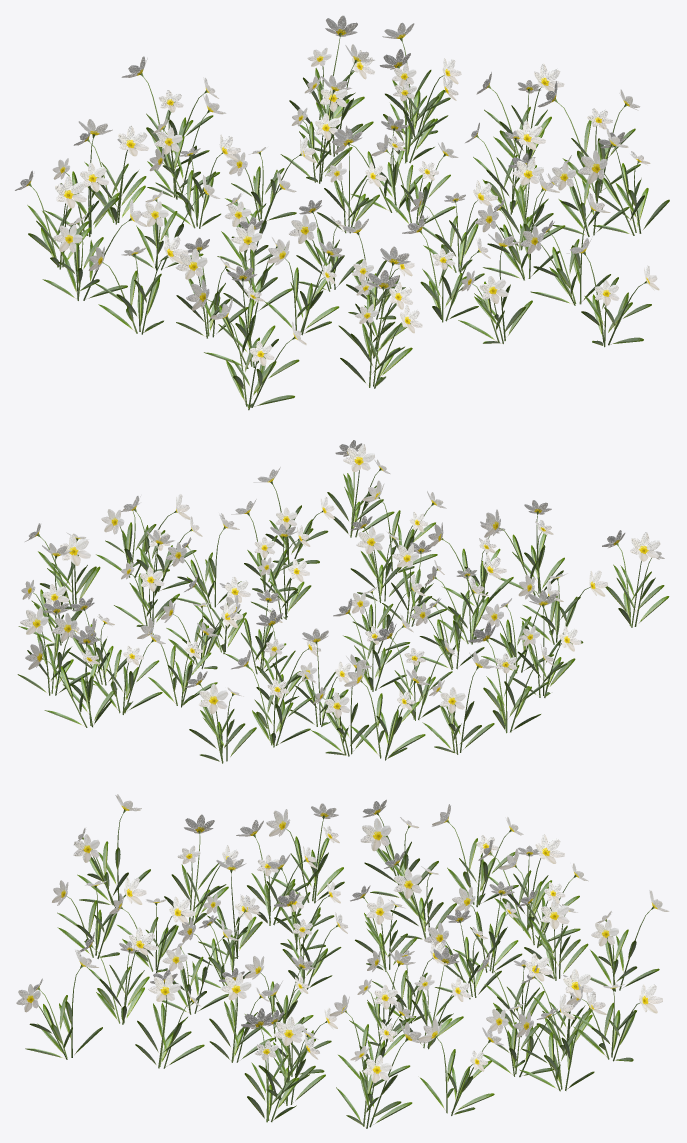
Rendered from flowers.fbx.
3 views of the same model, one above another, from view 1: azimuth 30°, elevation 25°; view 2: azimuth 150°, elevation 25°; view 3: azimuth 270°, elevation 25° (orthographic). The views are drawn at different scales.
Visible parts, largest first — view 1: Tree_1, Tree_0, Tree_2; view 2: Tree_1, Tree_0, Tree_2; view 3: Tree_1, Tree_0, Tree_2.
Boxes of the visible parts, x1=… form: Tree_1: x1=27, y1=68, x2=669, y2=408; Tree_0: x1=15, y1=15, x2=659, y2=365; Tree_2: x1=28, y1=33, x2=647, y2=410; Tree_1: x1=17, y1=473, x2=669, y2=762; Tree_0: x1=20, y1=440, x2=664, y2=718; Tree_2: x1=33, y1=468, x2=651, y2=763; Tree_1: x1=25, y1=836, x2=659, y2=1127; Tree_0: x1=16, y1=794, x2=669, y2=1082; Tree_2: x1=37, y1=809, x2=654, y2=1128.
Size of the model in its own units: 332 by 60.42 by 342.
Materials: 3 (3 with a texture image).
